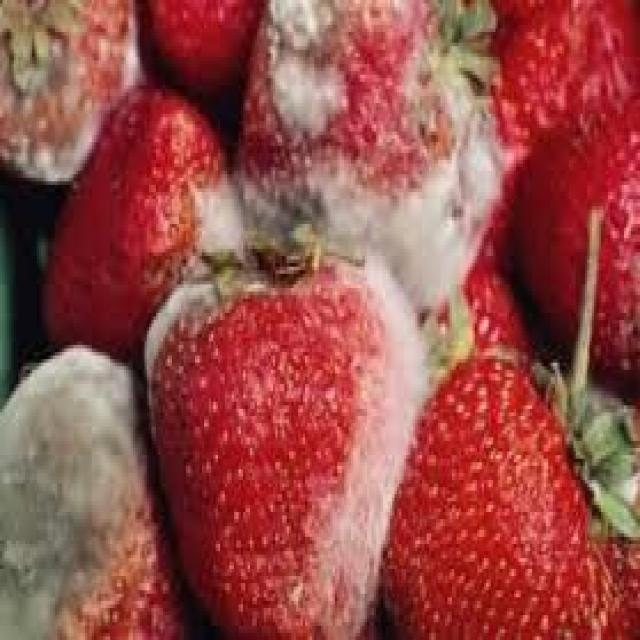organic waste: (0, 0, 637, 636), (140, 224, 427, 636), (376, 199, 638, 637), (227, 0, 525, 320), (0, 342, 195, 636), (32, 78, 225, 342), (463, 0, 638, 256), (514, 92, 638, 402), (0, 0, 135, 170), (133, 0, 271, 121), (415, 252, 528, 362), (0, 174, 32, 395)
